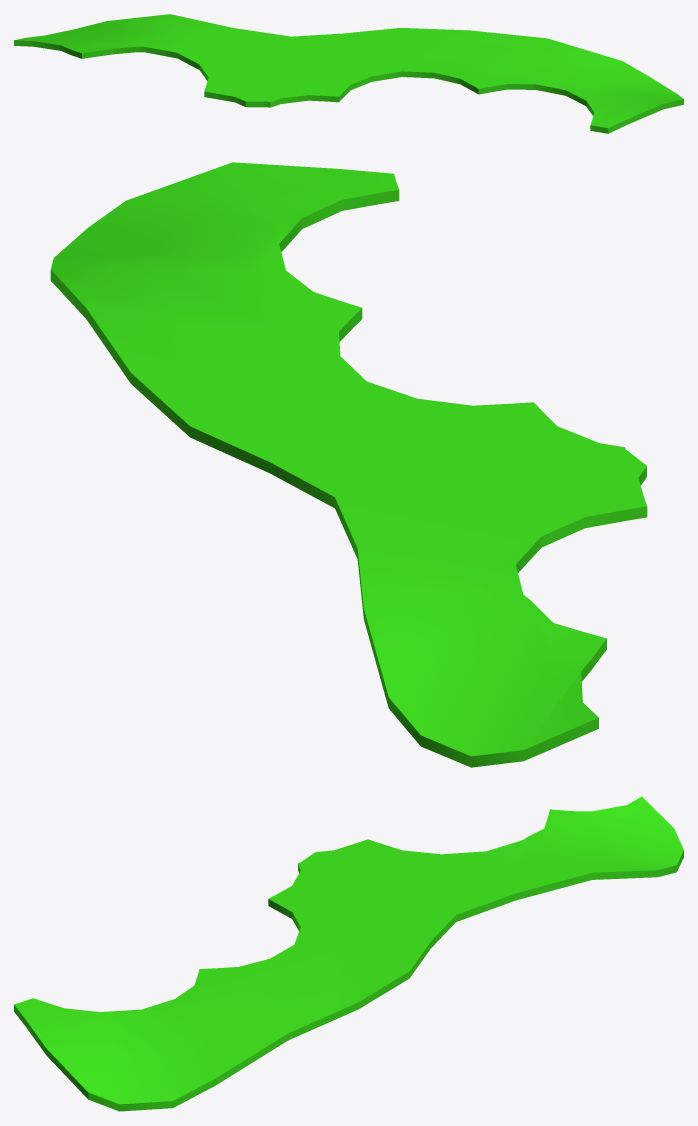
File: salad_8.fbx
The picture shows the model from 3 angles, top to bottom: view 1: azimuth 30°, elevation 25°; view 2: azimuth 150°, elevation 25°; view 3: azimuth 270°, elevation 25°; orthographic projection. The views are drawn at different scales.
Visible parts, largest first — view 1: Salad_0.008; view 2: Salad_0.008; view 3: Salad_0.008.
Part boxes in pixels (left/top/right/bottom): Salad_0.008: left=14, top=14, right=683, bottom=133; Salad_0.008: left=50, top=162, right=647, bottom=767; Salad_0.008: left=14, top=796, right=683, bottom=1111.
Bounding box in the file's own units: 200 × 13.07 × 198.
